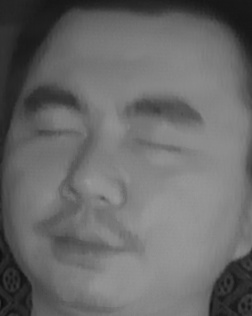blink: (135, 125, 182, 160), (36, 114, 82, 144)
mouth: (41, 208, 130, 267)
